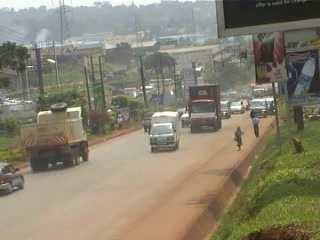Car: (0, 158, 28, 200), (218, 98, 233, 119), (175, 106, 190, 120), (231, 99, 244, 115), (180, 111, 192, 128), (239, 97, 250, 109)
